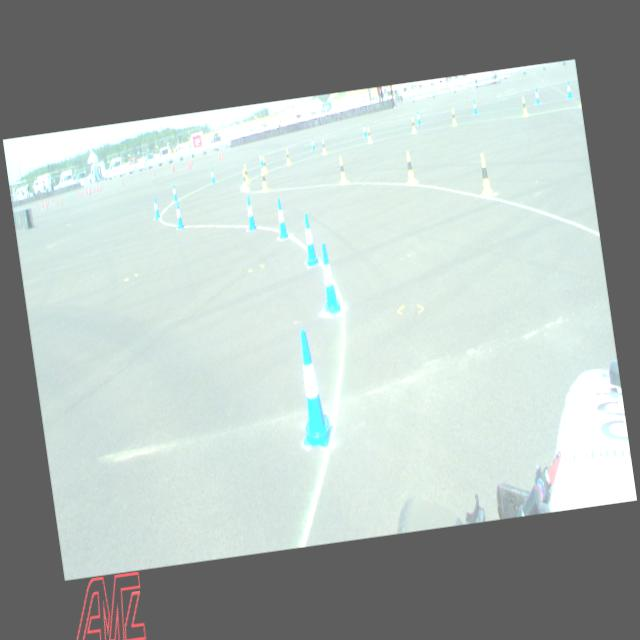blue_cone: (288, 327, 336, 451), (316, 242, 342, 315), (300, 212, 320, 267), (274, 198, 290, 240), (244, 196, 258, 232), (174, 200, 184, 229), (152, 197, 162, 220), (566, 81, 572, 99), (172, 184, 178, 202), (534, 88, 540, 104), (210, 168, 216, 184), (472, 100, 478, 116), (416, 111, 422, 126), (310, 137, 316, 151), (362, 124, 367, 138), (259, 152, 264, 166)
yellow_cone: (477, 152, 494, 198), (404, 150, 416, 186), (337, 156, 349, 184), (241, 168, 250, 192), (260, 168, 268, 192), (521, 96, 529, 118), (244, 164, 250, 183), (262, 156, 268, 174), (284, 148, 290, 164), (321, 138, 327, 154), (366, 127, 372, 143), (411, 116, 416, 134), (451, 108, 456, 125)
